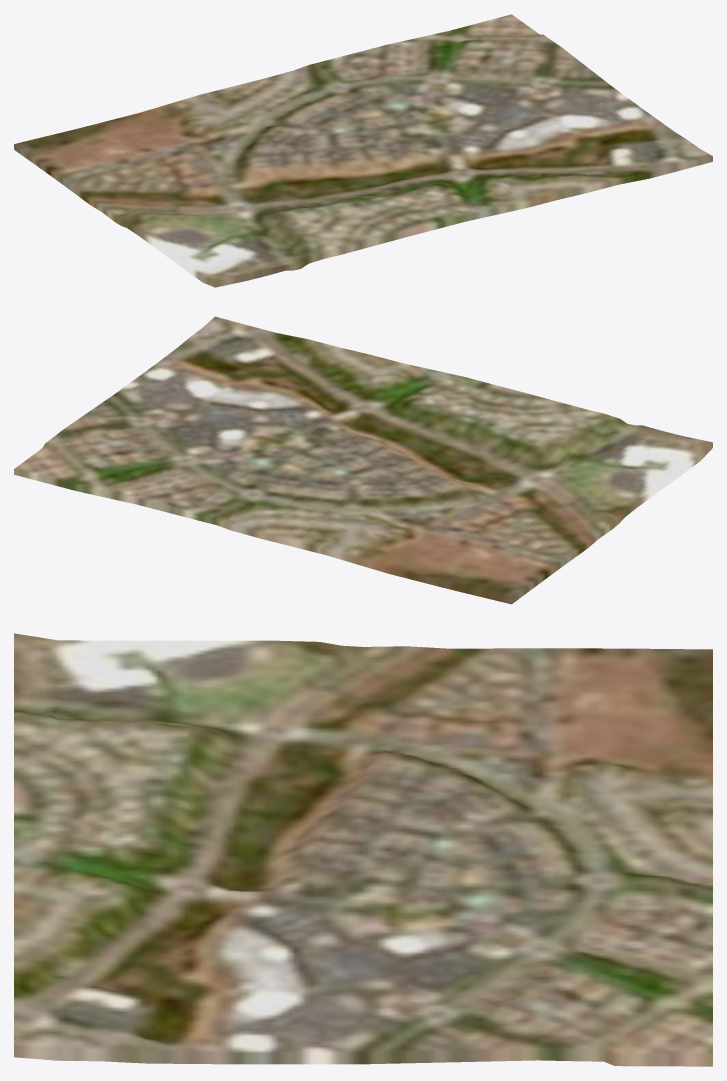
File: terrain_r3_c4_lod2.glb
3 renders of one model, top to bottom at view 1: azimuth 30°, elevation 25°; view 2: azimuth 150°, elevation 25°; view 3: azimuth 270°, elevation 25°, orthographic. The views are drawn at different scales.
Visible parts, largest first — view 1: terrain_r3_c4_lod2; view 2: terrain_r3_c4_lod2; view 3: terrain_r3_c4_lod2.
Part boxes in pixels (bbox=[...]): terrain_r3_c4_lod2: bbox=[14, 14, 712, 287]; terrain_r3_c4_lod2: bbox=[14, 316, 712, 604]; terrain_r3_c4_lod2: bbox=[14, 633, 712, 1066].
Bounding box in the file's own units: 1125 × 42.71 × 787.
1 material, 1 textured.
